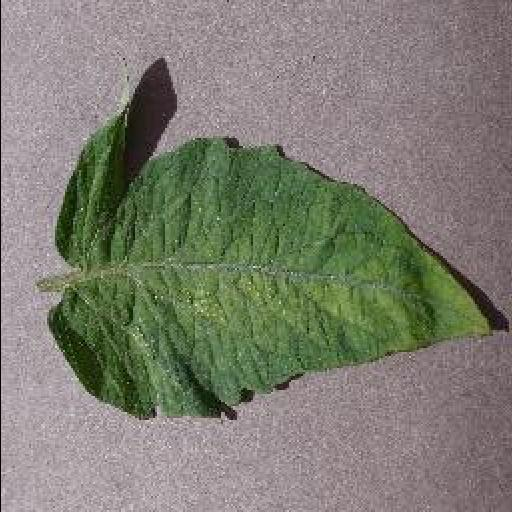disease_tomato: (48, 108, 492, 420)
